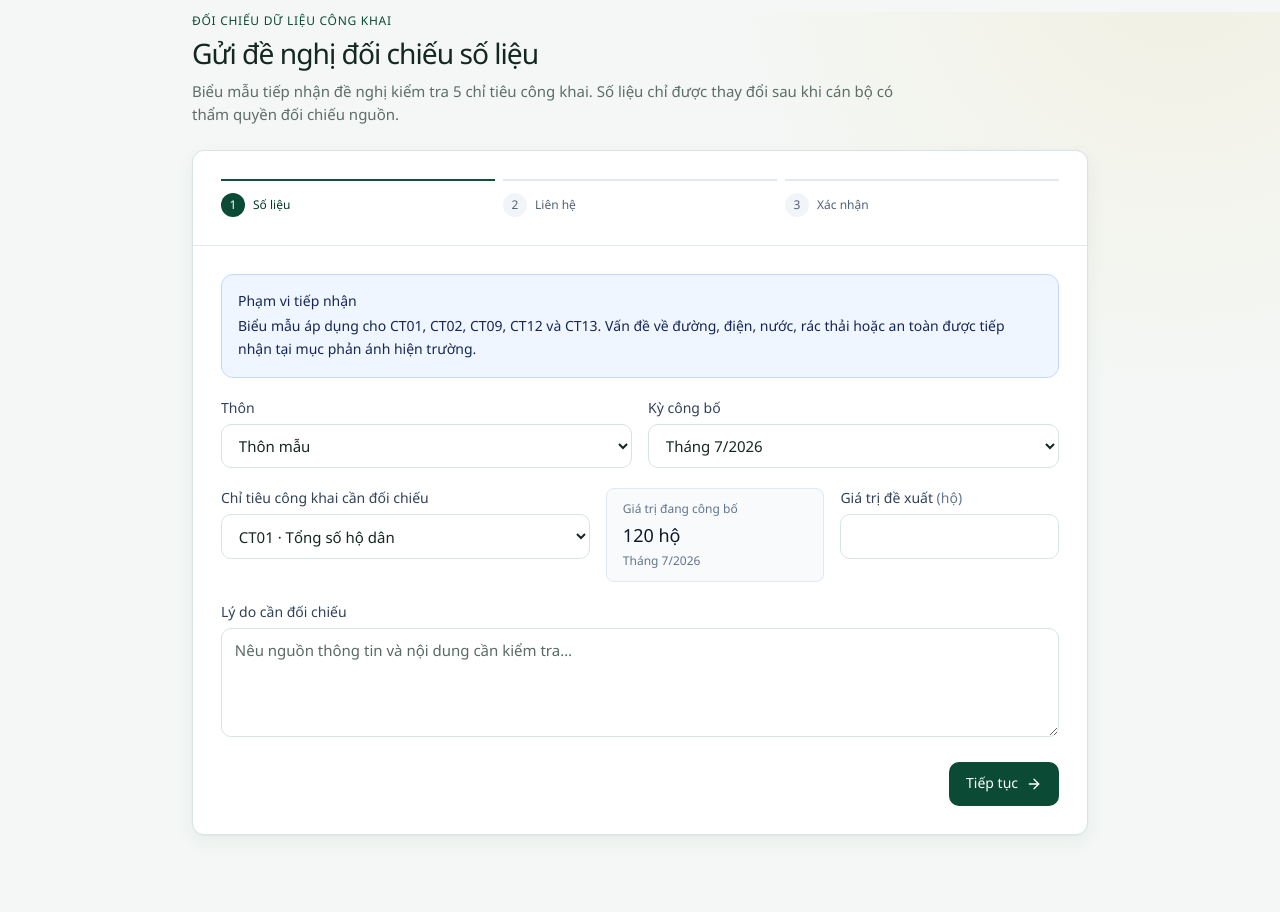
Scenario: citizen proposal workflow › blocks invalid values and phone numbers before advancing
The image size is (1280, 912).
Type "-1" into the number field labelled "Giá trị đề xuất (hộ)" at (950, 536), box [840,514,1059,558]
Type "Đối chiếu nguồn." into the text box labelled "Lý do cần đối chiếu" at (640, 683), box [221,628,1059,737]
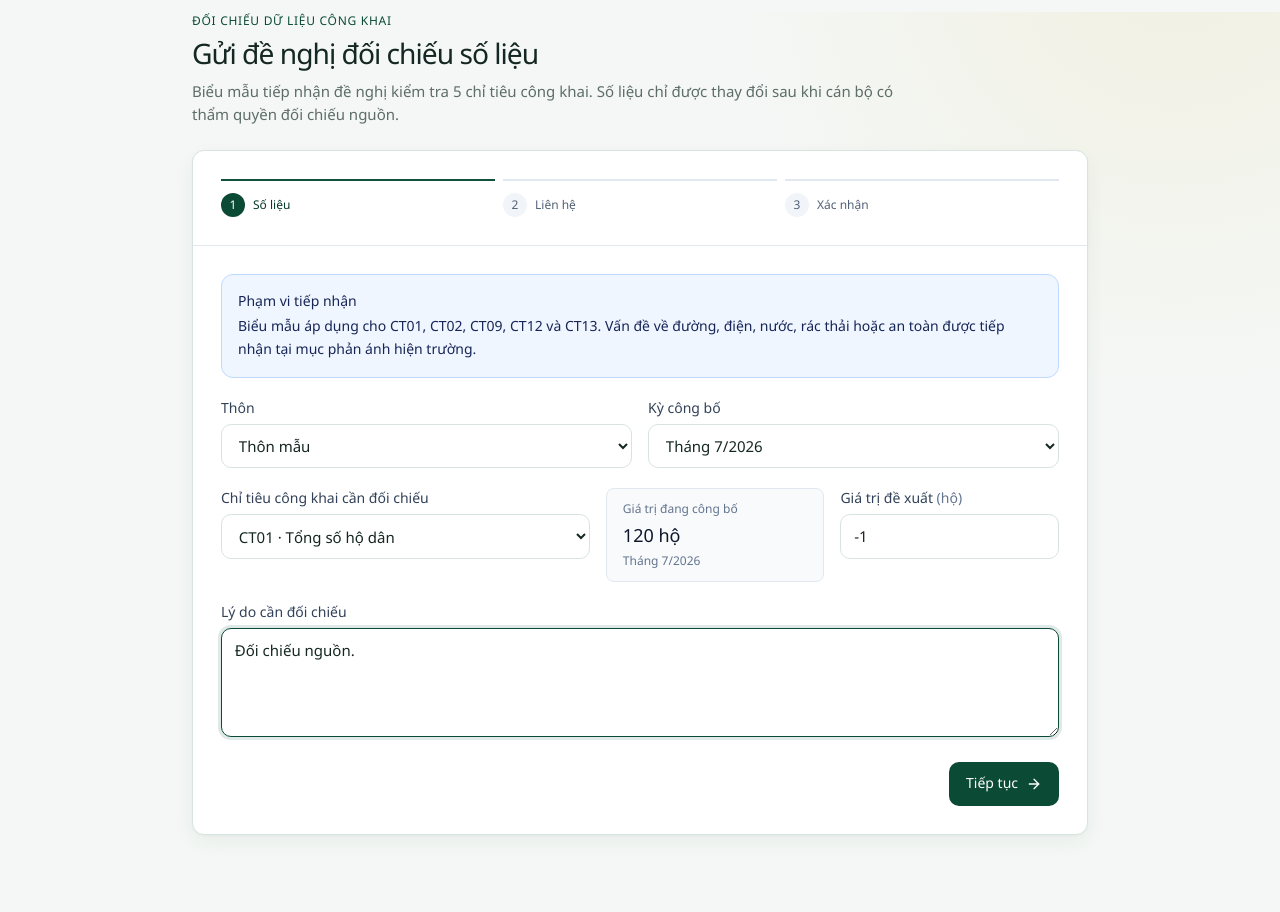
Click the button "Tiếp tục" at (1004, 784), box [949,762,1059,806]
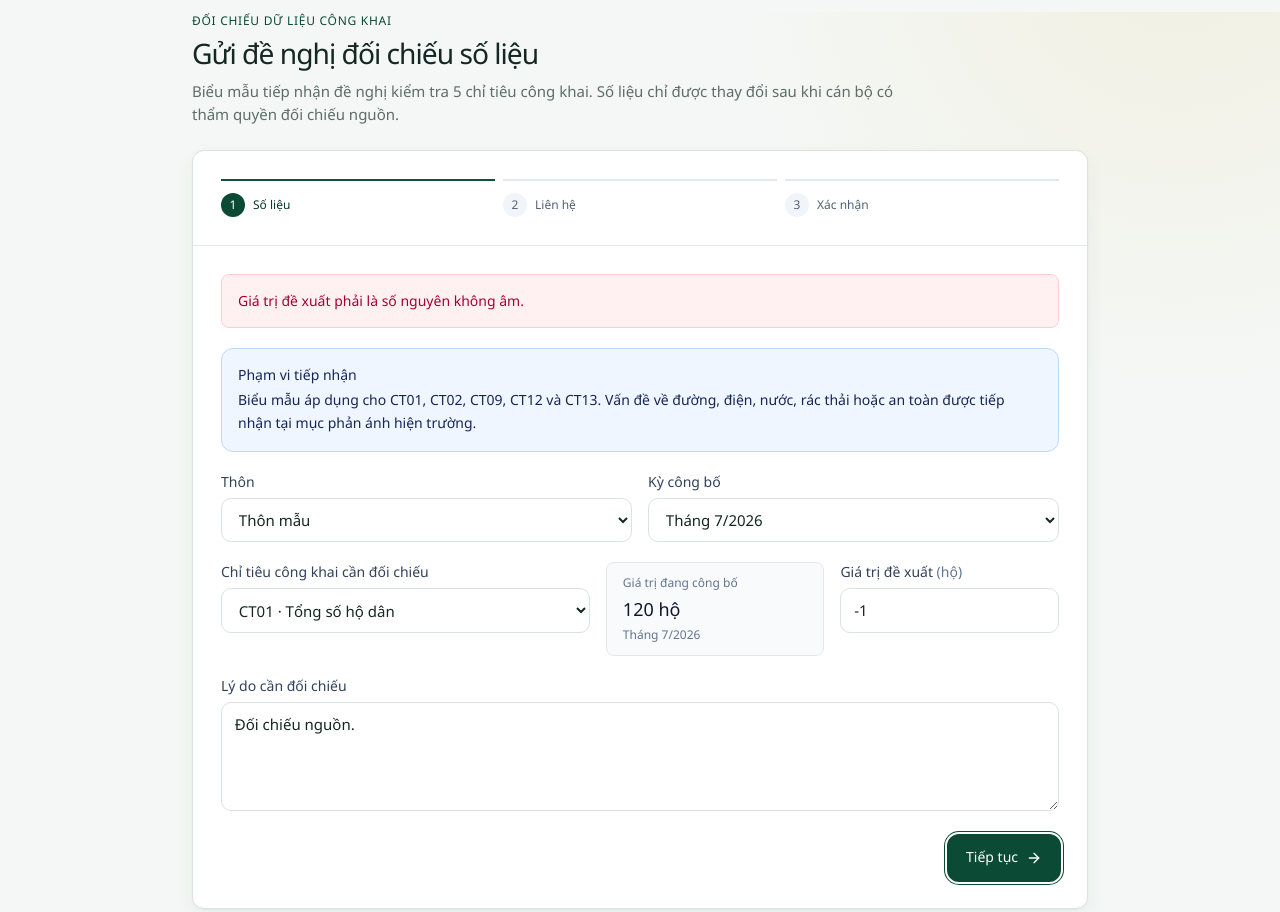
Expected: the message shows "số nguyên không âm", [238,291,524,310]
Replace the text in the number field labelled "Giá trị đề xuất (hộ)" with "125" at (950, 610), box [840,588,1059,632]
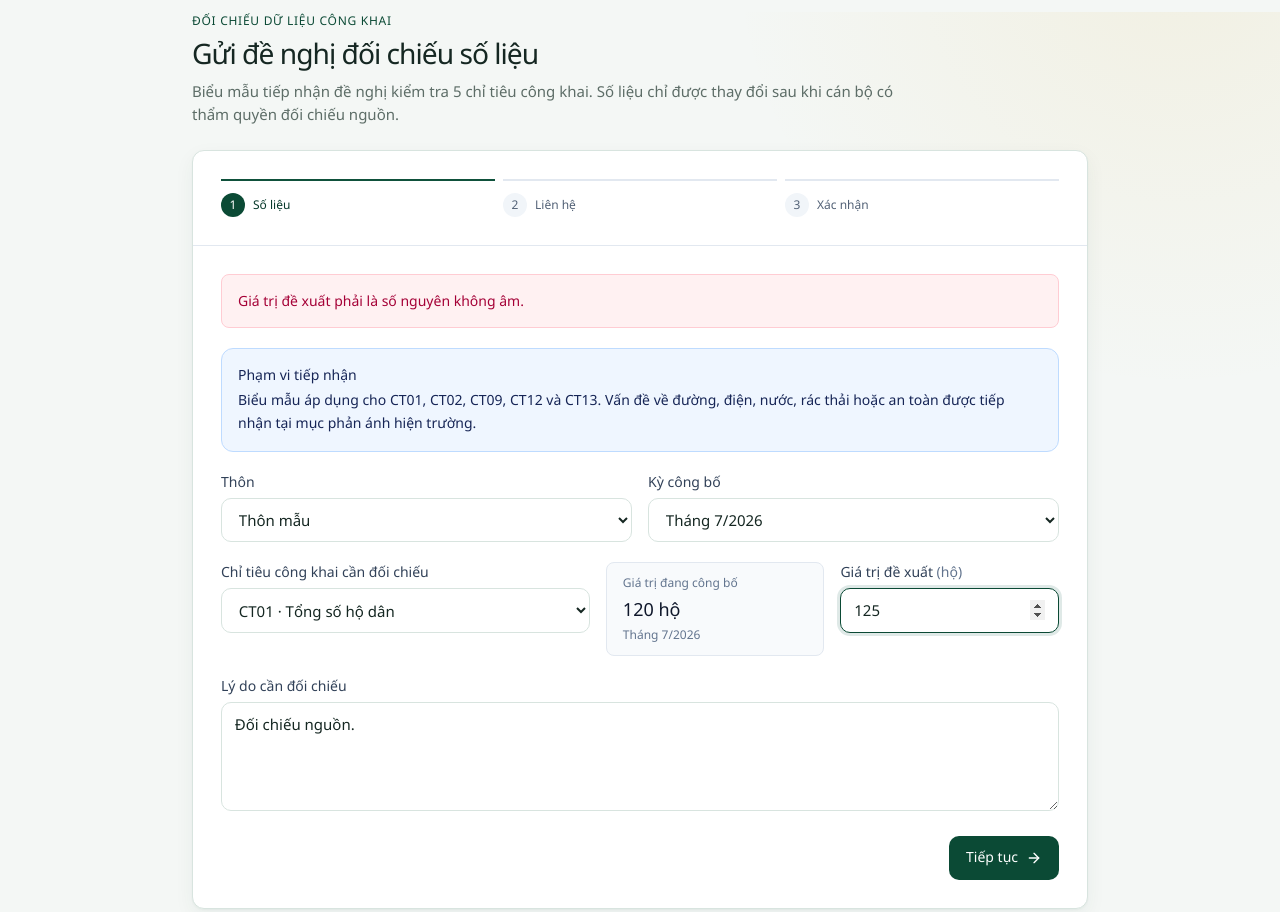
Click the button "Tiếp tục" at (1004, 858), box [949,836,1059,880]
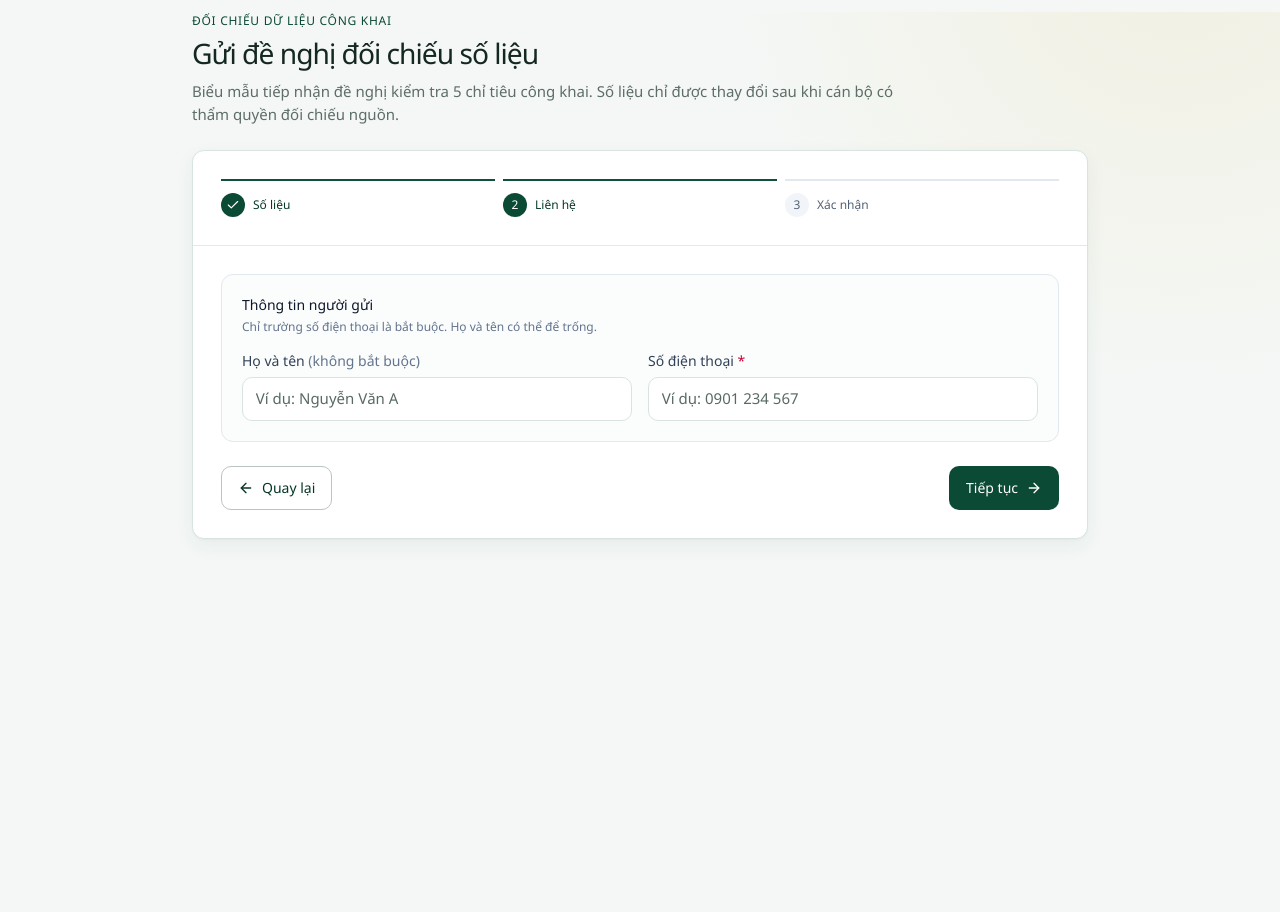
Type "123" into the field labelled "Số điện thoại *" at (843, 399), box [648,377,1038,421]
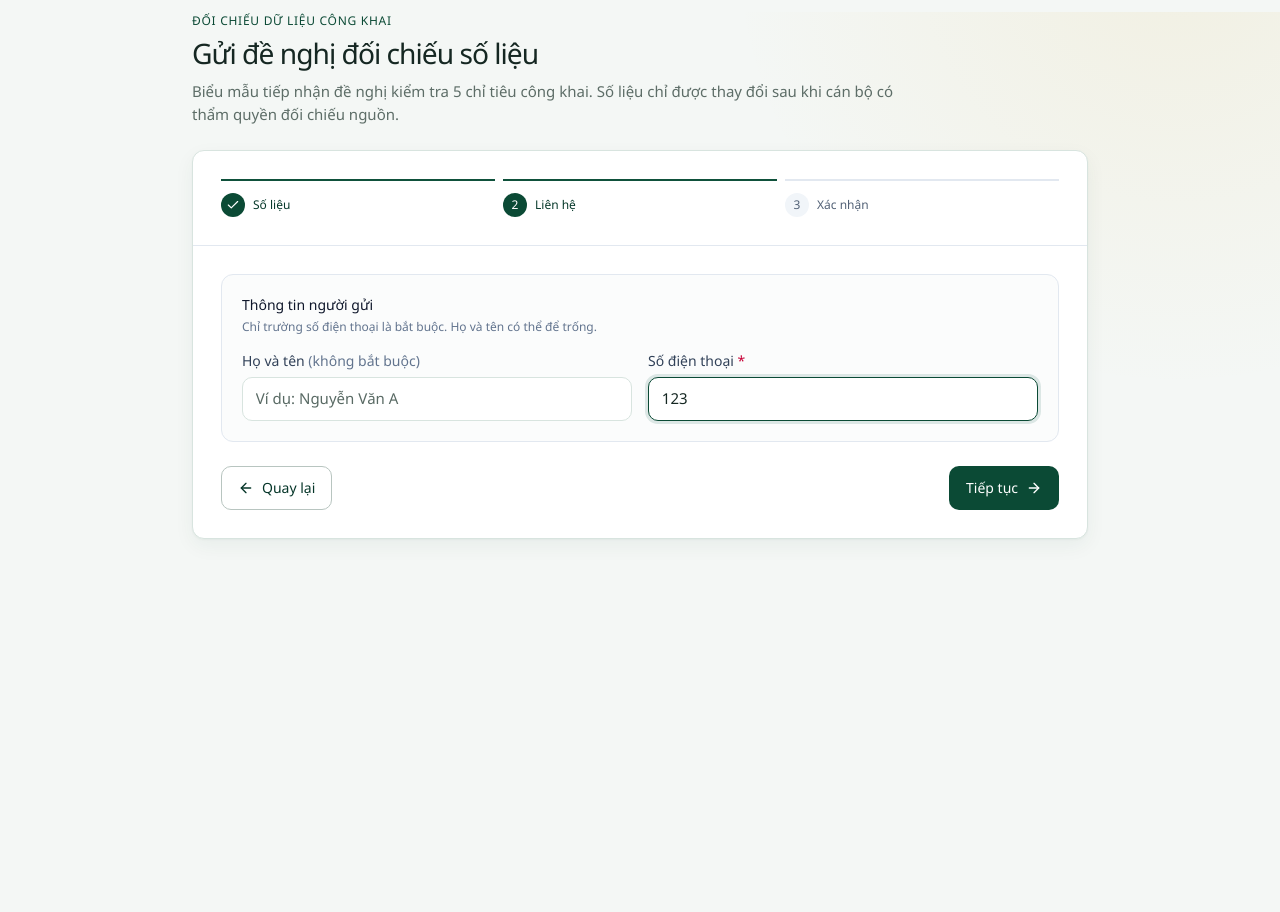
Click the button "Tiếp tục" at (1004, 488), box [949,466,1059,510]
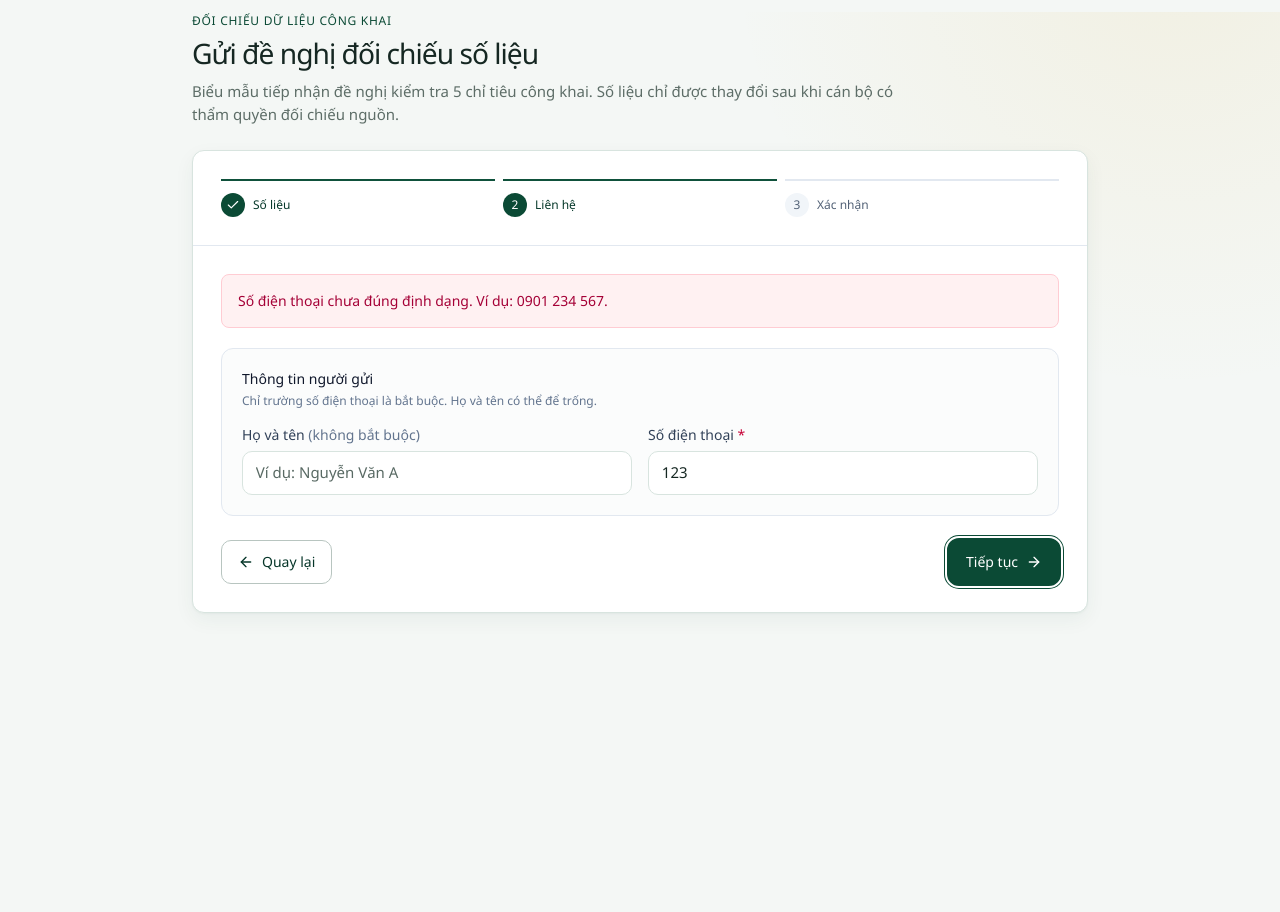
Expected: the message shows "chưa đúng định dạng", [238,291,608,310]
